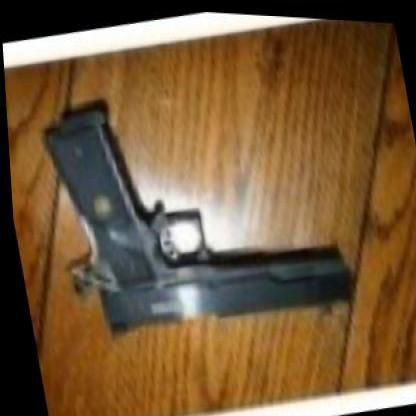pistol: (32, 47, 362, 368)
